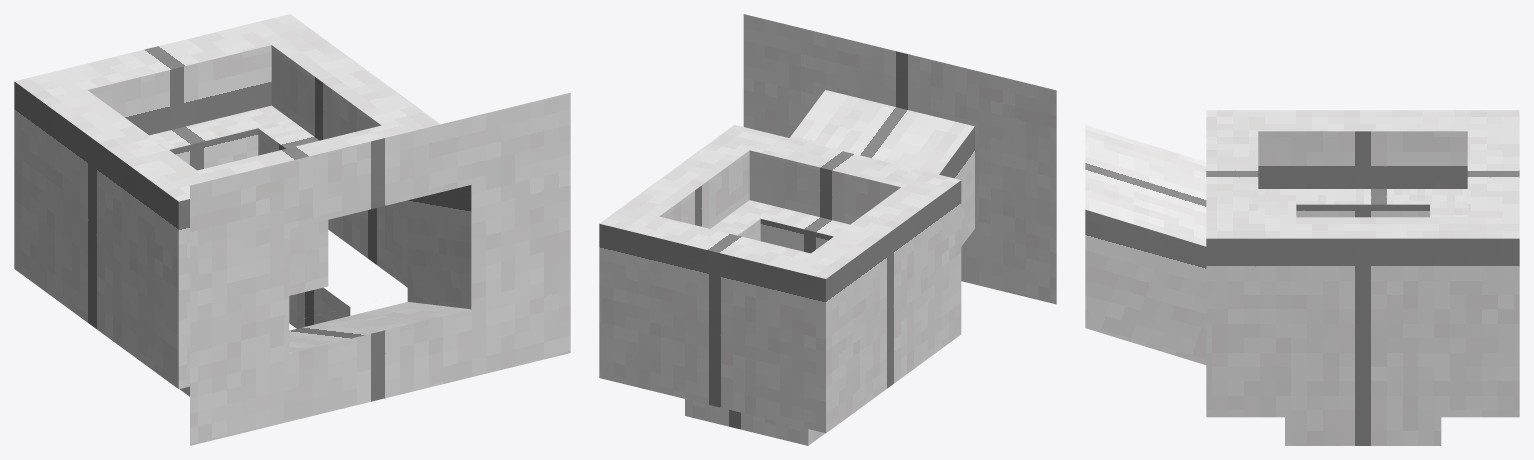
The model's file is TOILET SMALL.fbx.
The picture shows the model from 3 angles, left to right: view 1: azimuth 30°, elevation 25°; view 2: azimuth 150°, elevation 25°; view 3: azimuth 270°, elevation 25°; orthographic projection. The views are drawn at different scales.
Parts seen in each view (by area): view 1: TOILET; view 2: TOILET; view 3: TOILET.
Part boxes in pixels (x1=…): TOILET: x1=14, y1=14, x2=570, y2=445; TOILET: x1=599, y1=14, x2=1056, y2=445; TOILET: x1=1085, y1=110, x2=1519, y2=445.
Bounding box in the file's own units: 82.46 × 67.02 × 85.51.
